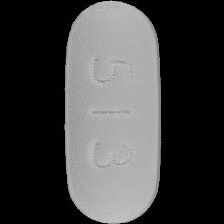49884-513: (0, 0, 224, 224)
